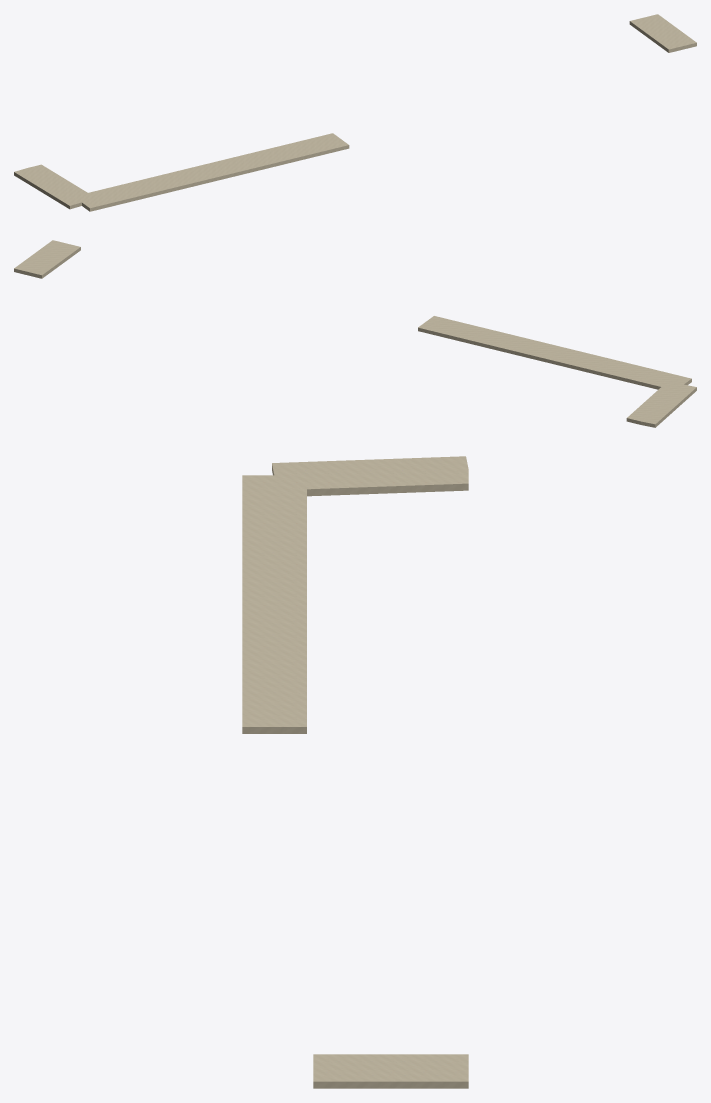
The model's file is STAFFLINK_D09_P378__floor.glb.
The picture shows the model from 3 angles, top to bottom: view 1: azimuth 30°, elevation 25°; view 2: azimuth 150°, elevation 25°; view 3: azimuth 270°, elevation 25°; orthographic projection. The views are drawn at different scales.
Visible parts, largest first — view 1: STAFFLINK_D09_P378__floor__warm_stone; view 2: STAFFLINK_D09_P378__floor__warm_stone; view 3: STAFFLINK_D09_P378__floor__warm_stone.
Part boxes in pixels (x1,y1,x2,y2): STAFFLINK_D09_P378__floor__warm_stone: (14, 14, 696, 211); STAFFLINK_D09_P378__floor__warm_stone: (14, 240, 696, 427); STAFFLINK_D09_P378__floor__warm_stone: (242, 456, 468, 1088).
Bounding box in the file's own units: 45.75 × 0.24 × 7.
Materials: 1 (1 with a texture image).
